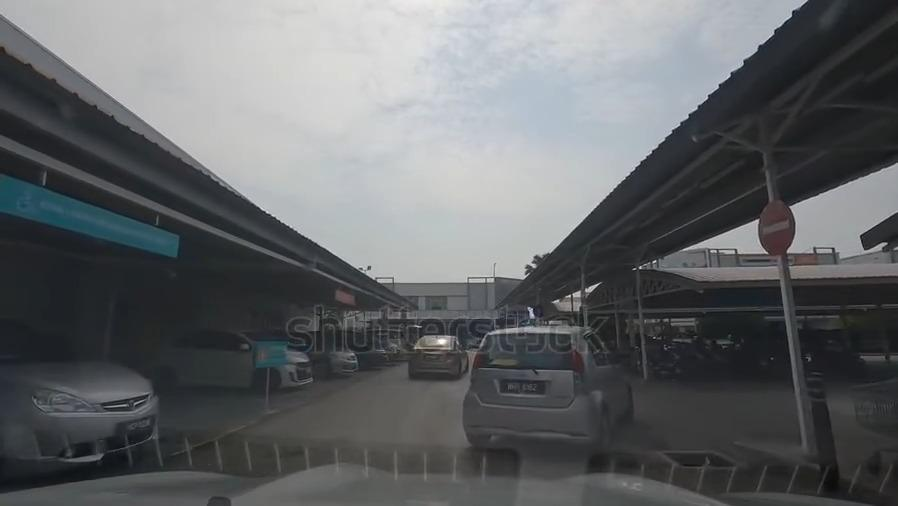car: (3, 325, 157, 459), (464, 332, 631, 435), (147, 329, 312, 391), (408, 333, 465, 378), (305, 333, 358, 379)
manhole: (659, 446, 735, 475)
wheel: (353, 340, 387, 367), (251, 366, 279, 393), (155, 366, 176, 396), (313, 357, 332, 380), (387, 339, 403, 359)
